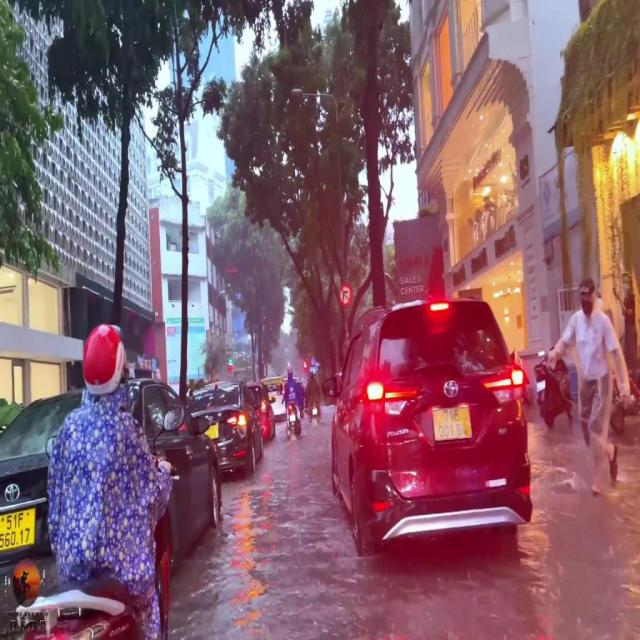cam_re_phai: (339, 284, 353, 307)
